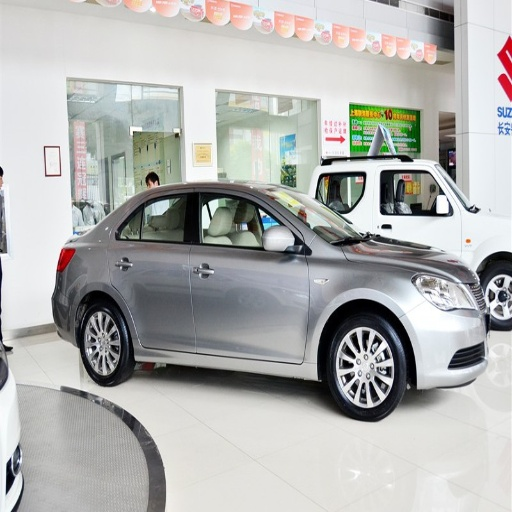back_right_door: (111, 191, 195, 351)
front_bumper: (407, 301, 487, 385)
front_right_door: (191, 191, 310, 361)
